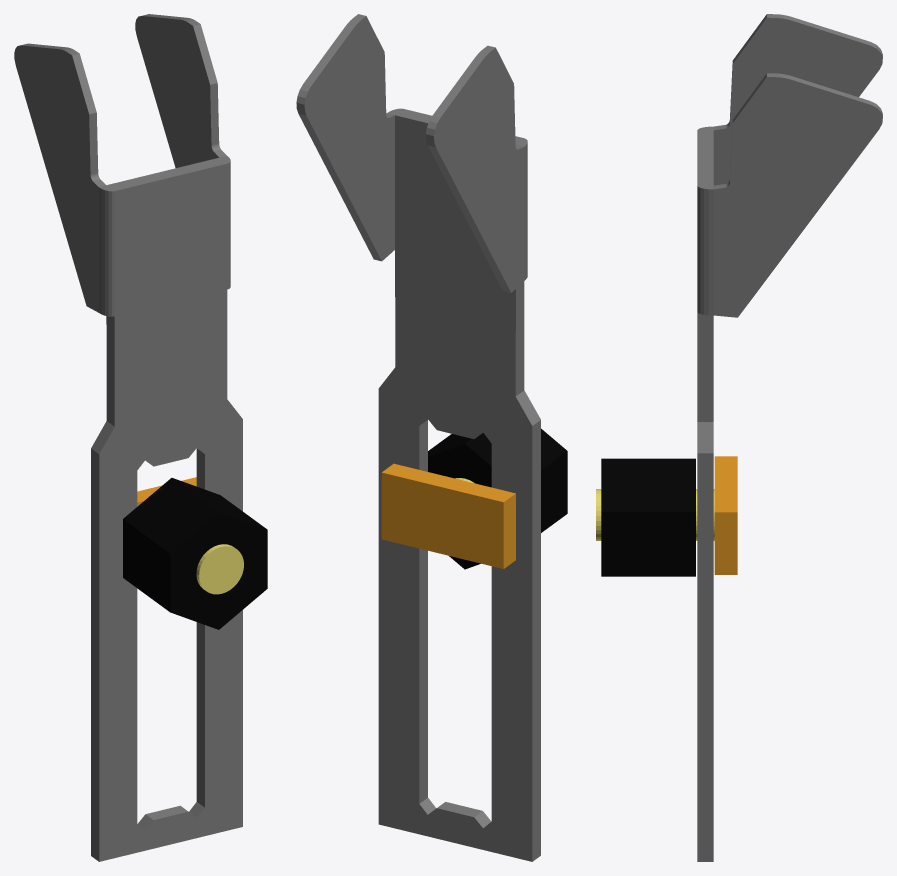
Rendered from cheville.fbx.
3 renders of one model, left to right at view 1: azimuth 30°, elevation 25°; view 2: azimuth 150°, elevation 25°; view 3: azimuth 270°, elevation 25°, orthographic. The views are drawn at different scales.
Visible parts, largest first — view 1: Main Part, ScrewHandle, Screw; view 2: Main Part, Lock, ScrewHandle; view 3: Main Part, ScrewHandle, Lock.
Boxes of the visible parts, x1,y1,x2,y2 form: Main Part: [14, 14, 242, 861]; ScrewHandle: [123, 478, 267, 629]; Screw: [196, 544, 243, 594]; Main Part: [296, 14, 540, 861]; Lock: [381, 463, 515, 568]; ScrewHandle: [428, 428, 567, 569]; Main Part: [697, 14, 882, 861]; ScrewHandle: [601, 458, 695, 576]; Lock: [714, 456, 737, 574].
Bounding box in the file's own units: 1.28 × 6.61 × 2.2.
